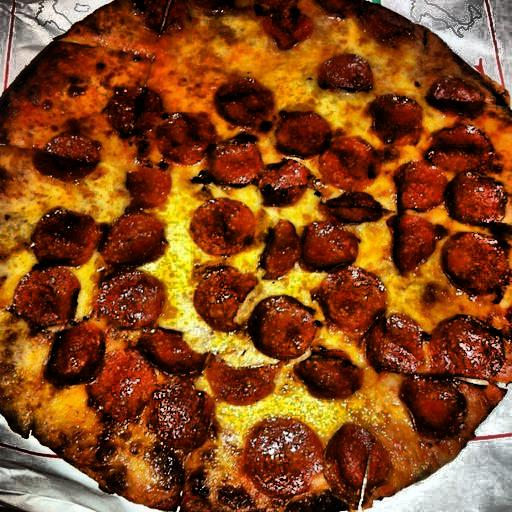pizza: (2, 4, 512, 491)
